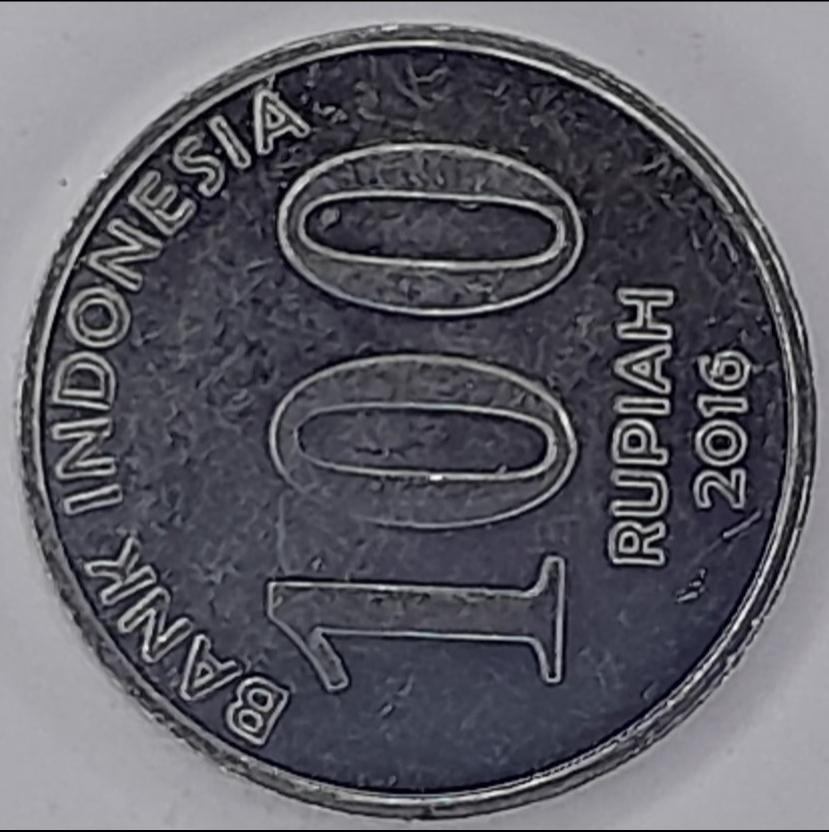coin_100_e2016: (11, 18, 822, 822)
